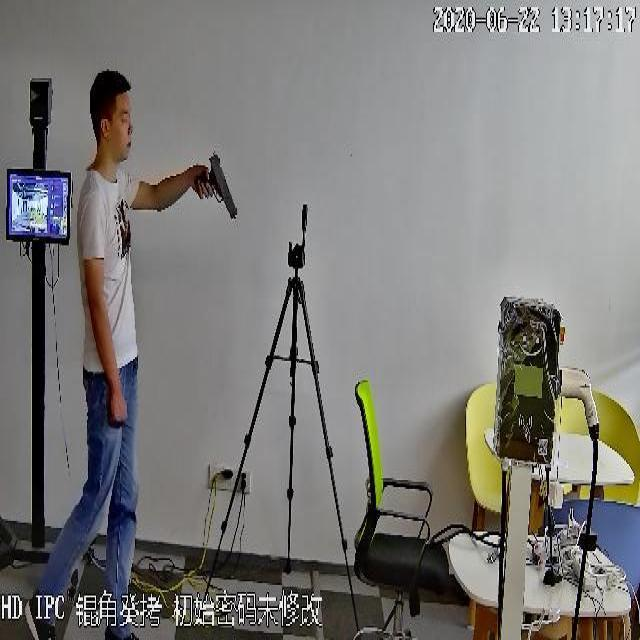pistol: (194, 143, 238, 223)
